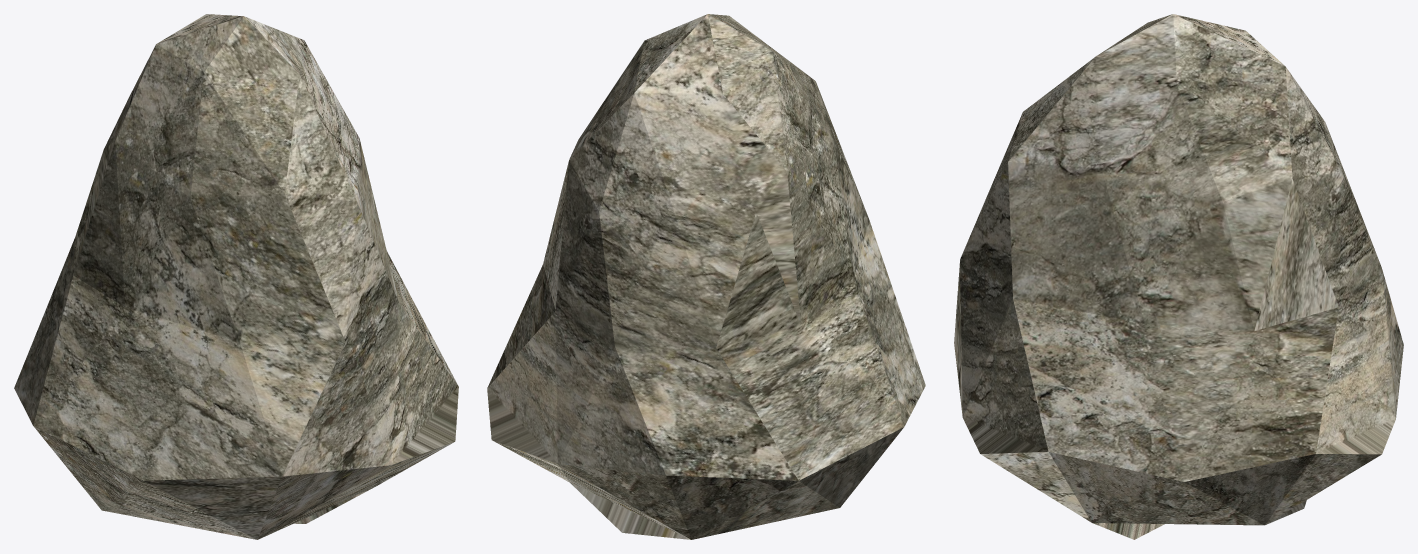
Rendered from rock1.obj.
3 renders of one model, left to right at view 1: azimuth 30°, elevation 25°; view 2: azimuth 150°, elevation 25°; view 3: azimuth 270°, elevation 25°, orthographic.
Parts seen in each view (by area): view 1: Icosphere; view 2: Icosphere; view 3: Icosphere.
Boxes of the visible parts, left/top/right/bottom form: Icosphere: left=14, top=14, right=458, bottom=539; Icosphere: left=487, top=14, right=925, bottom=539; Icosphere: left=954, top=14, right=1403, bottom=539.
Bounding box in the file's own units: 1.42 × 1.82 × 1.46.
